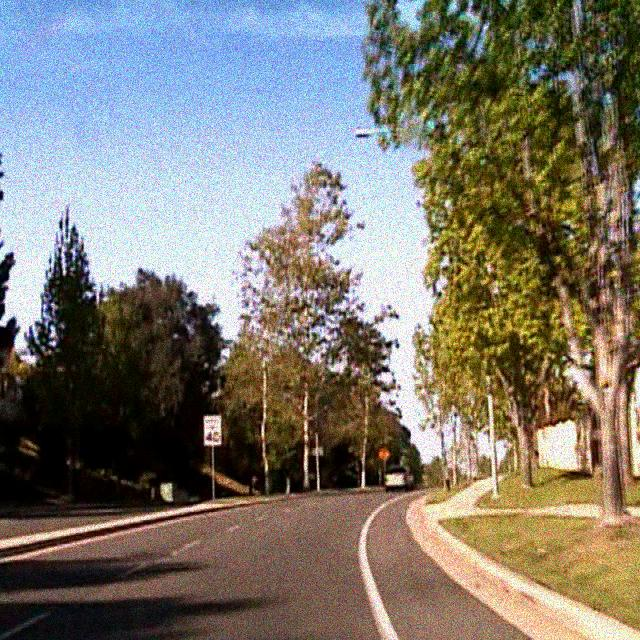speedLimit40: (203, 415, 221, 445)
